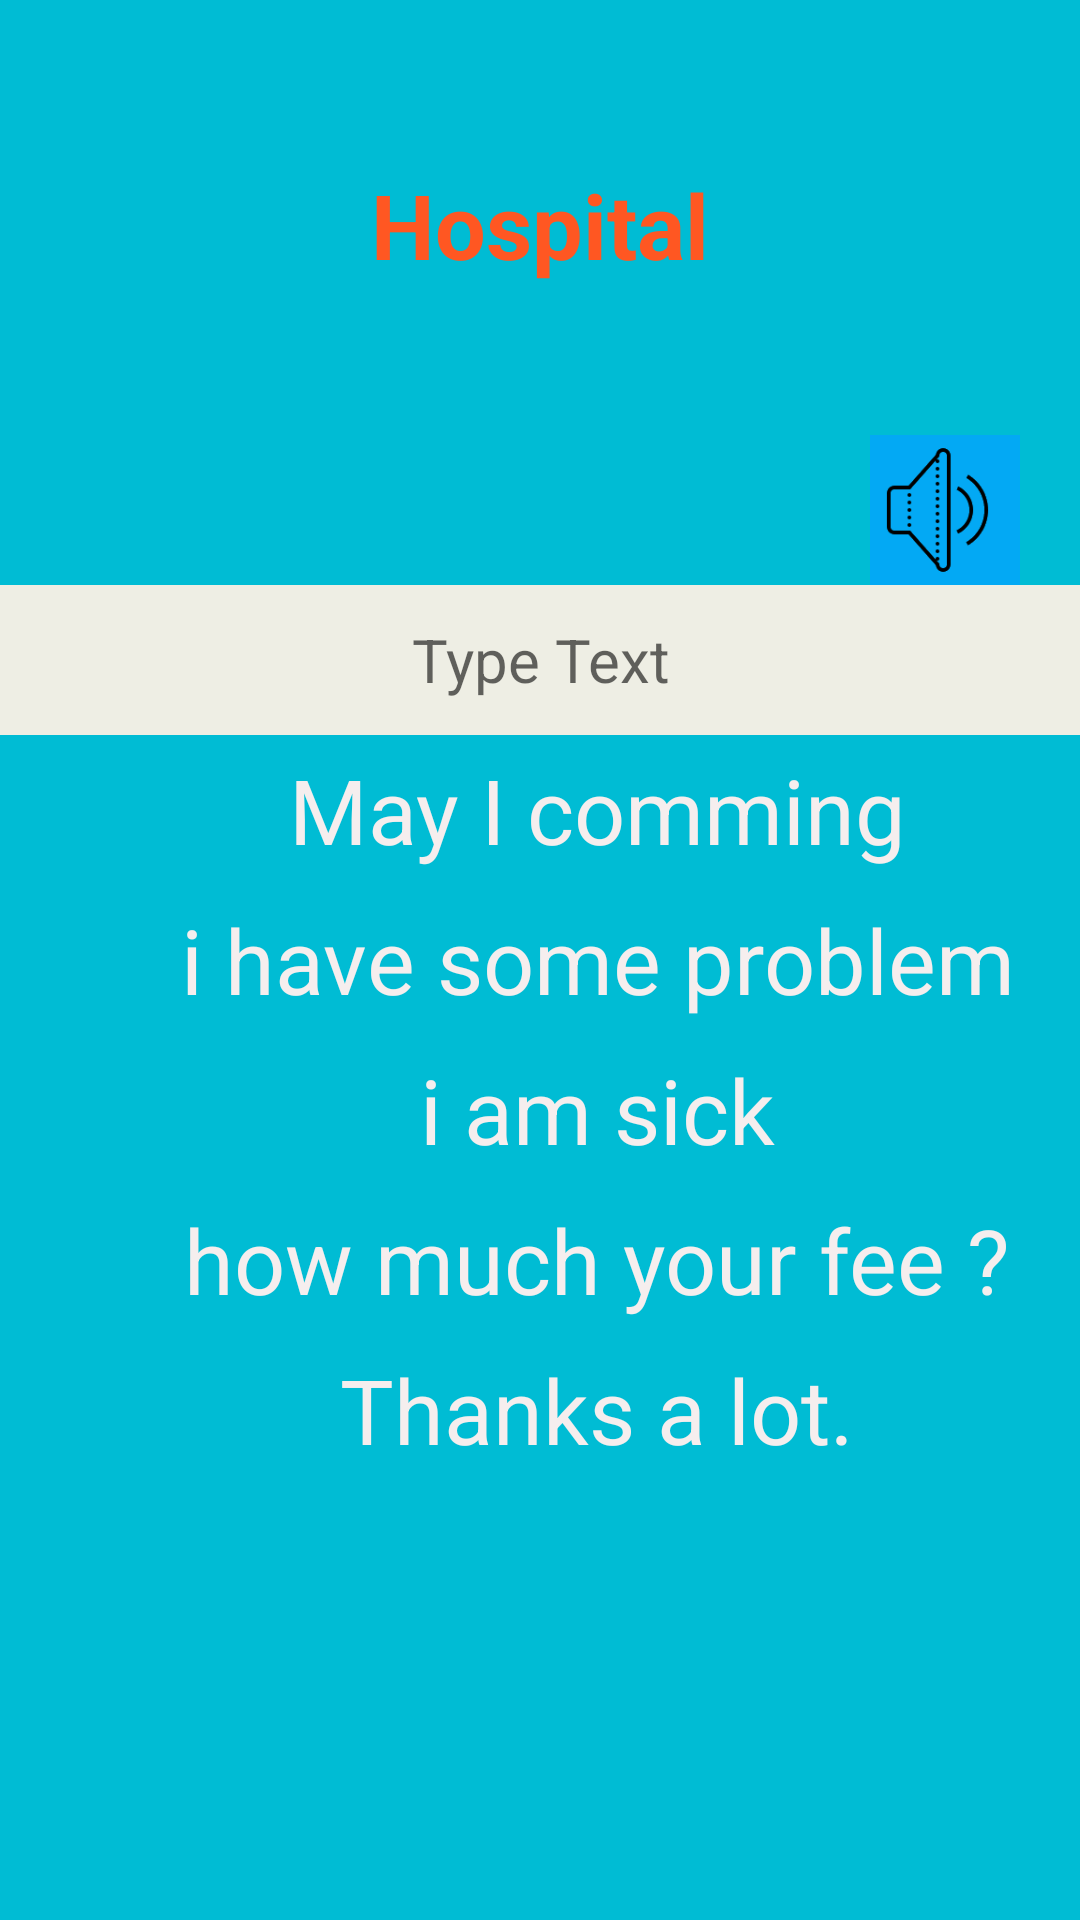

Screen size 1080x1920. Icon name, then its center in pixels as [x,y]:
speka: [945,510]
